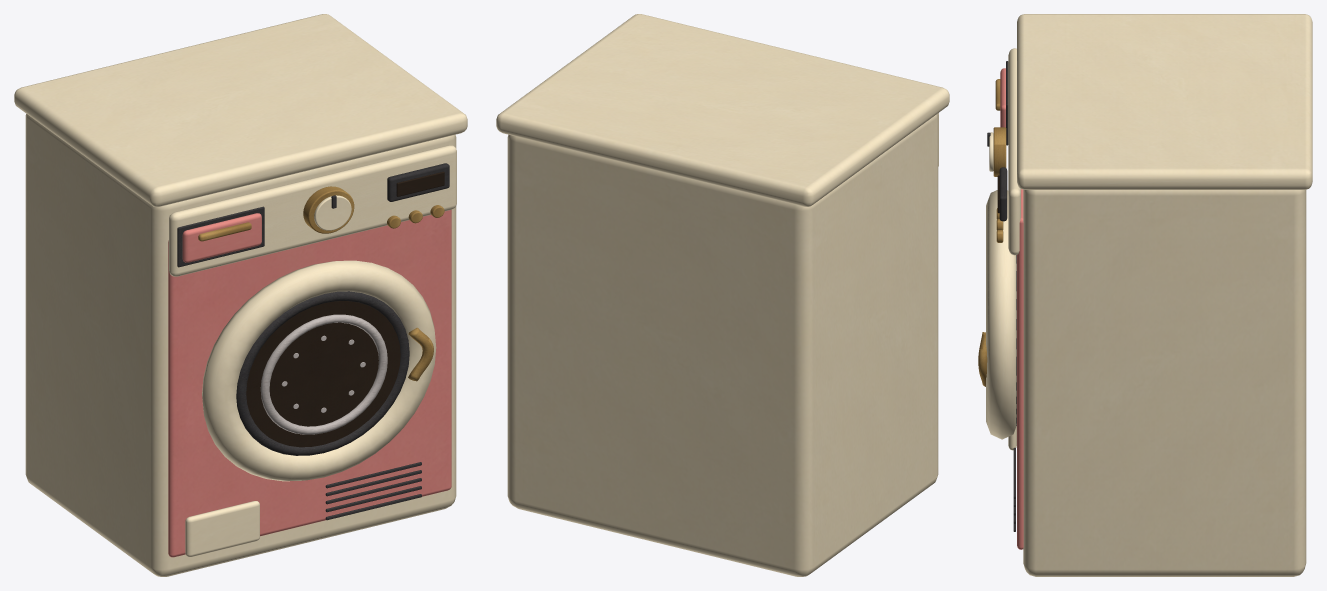
The model's file is SM_InteriorAdditions_WashingMachine.fbx.
The picture shows the model from 3 angles, left to right: view 1: azimuth 30°, elevation 25°; view 2: azimuth 150°, elevation 25°; view 3: azimuth 270°, elevation 25°; orthographic projection. The views are drawn at different scales.
Visible parts, largest first — view 1: SM_InteriorAdditions_WashingMachine; view 2: SM_InteriorAdditions_WashingMachine; view 3: SM_InteriorAdditions_WashingMachine.
Part boxes in pixels (x1,y1,x2,y2): SM_InteriorAdditions_WashingMachine: (14,14,467,576); SM_InteriorAdditions_WashingMachine: (496,14,949,576); SM_InteriorAdditions_WashingMachine: (978,14,1312,576).
Size of what is drawn, in the model's own units: 90.73 by 79.51 by 111.
